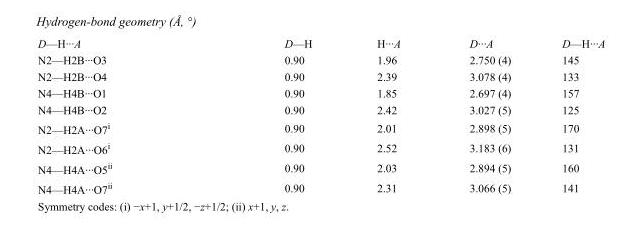table: (37, 36, 604, 195)
table column: (37, 36, 197, 195), (197, 36, 343, 195), (434, 36, 535, 195), (343, 36, 434, 195), (535, 36, 604, 195)
table row: (37, 117, 604, 137), (37, 137, 604, 157), (37, 157, 604, 177), (37, 177, 604, 195), (37, 67, 604, 84), (37, 84, 604, 101), (37, 51, 604, 67), (37, 101, 604, 117), (37, 36, 604, 51)
